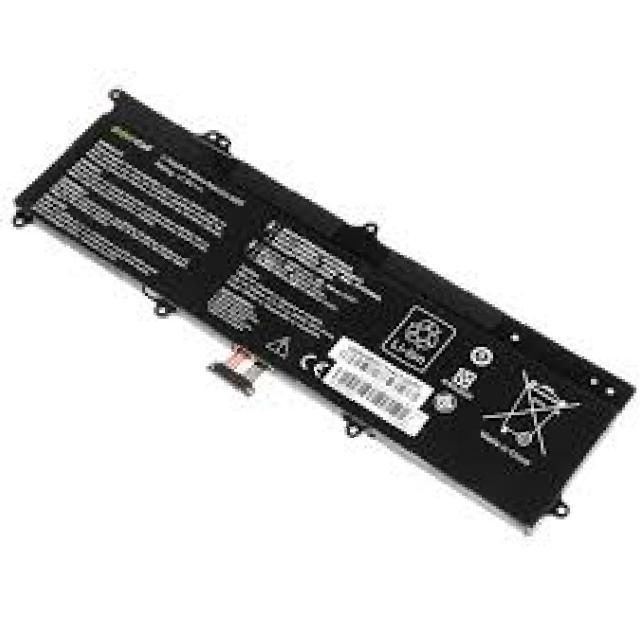Battery: (10, 57, 640, 594)
